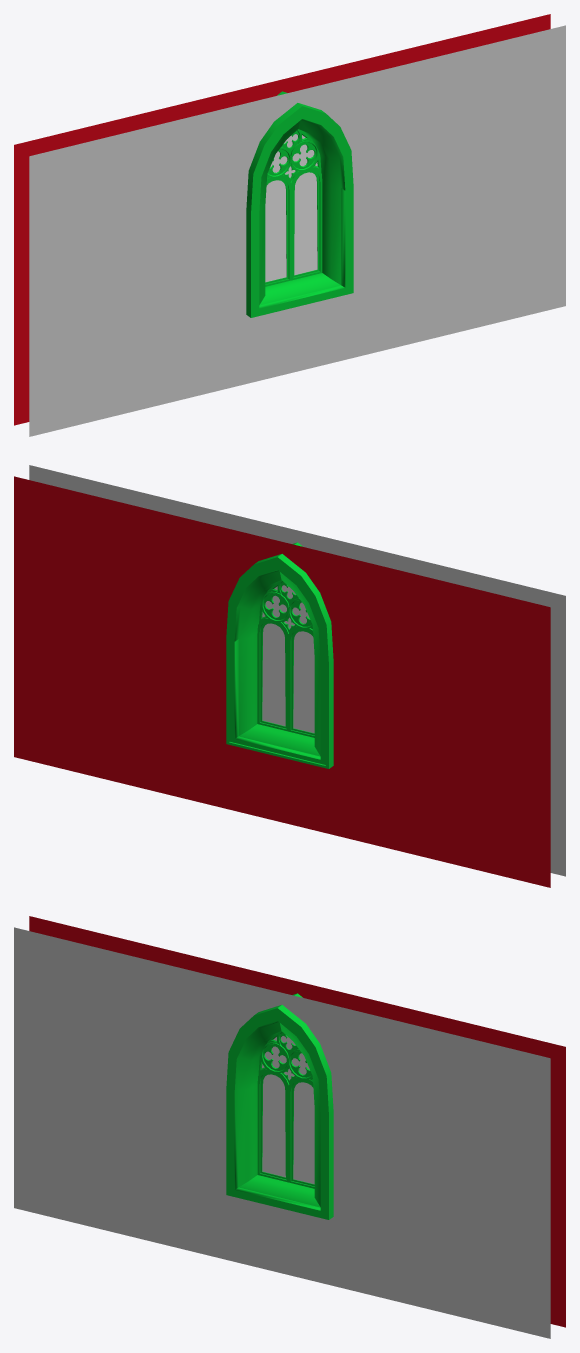
File: Wall_Windows (1).fbx
3 renders of one model, top to bottom at view 1: azimuth 30°, elevation 25°; view 2: azimuth 150°, elevation 25°; view 3: azimuth 330°, elevation 25°, orthographic.
Visible parts, largest first — view 1: Wall.001, Glass; view 2: Wall.001, Glass; view 3: Wall.001, Glass.
Boxes of the visible parts, box(x1,y1,x2,y2) form: Wall.001: box(14, 14, 565, 436); Glass: box(265, 134, 317, 282); Wall.001: box(14, 465, 565, 887); Glass: box(262, 585, 314, 733); Wall.001: box(14, 916, 565, 1338); Glass: box(262, 1036, 314, 1184).
Bounding box in the file's own units: 1000 × 500 × 79.94.
